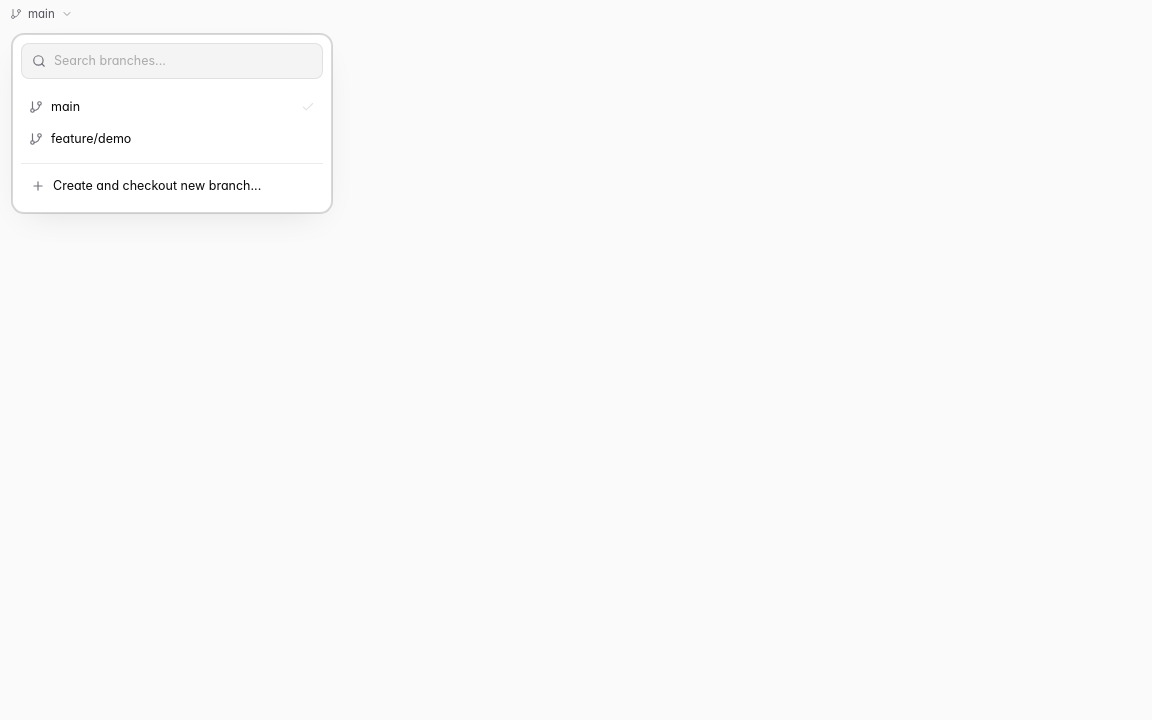
Scenario: BranchPicker panel (open) › shows git's stderr verbatim on a 409
The image size is (1152, 720).
Step 1. Click the button "feature/demo" → click(91, 138), box left=21, top=123, right=323, bottom=155
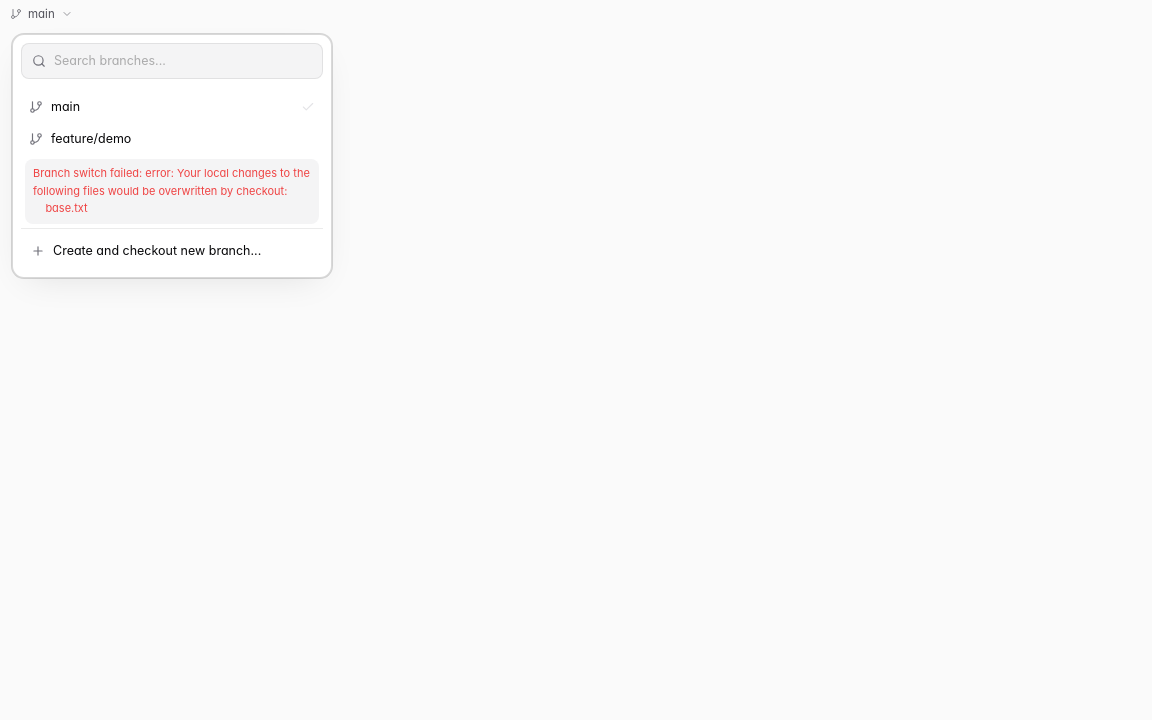
Check: the text with test id "branch-switch-error" shows "would be overwritten", box left=33, top=166, right=313, bottom=215
